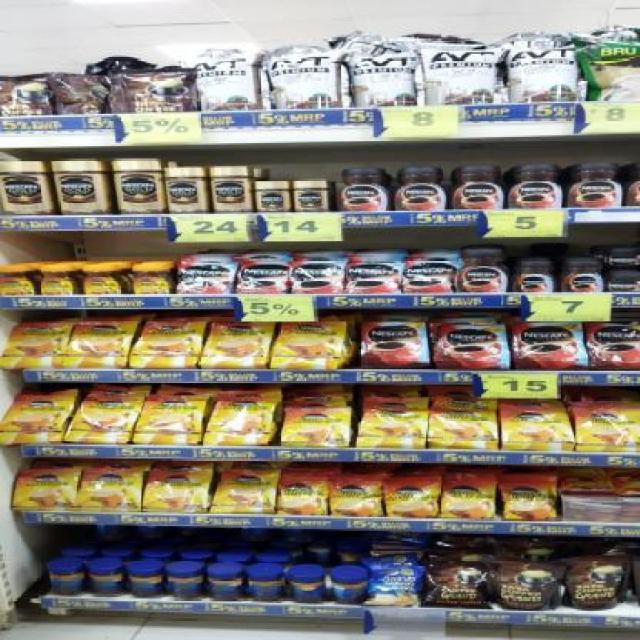Coffee: (434, 324, 508, 372), (62, 319, 130, 369), (515, 322, 587, 369), (69, 395, 137, 444), (132, 319, 200, 368), (271, 320, 339, 369), (362, 322, 430, 370), (201, 320, 269, 368), (3, 392, 65, 443), (137, 397, 201, 446), (202, 400, 268, 447), (3, 321, 69, 367), (282, 408, 350, 449), (503, 407, 569, 449), (212, 474, 278, 516), (115, 160, 166, 214), (578, 407, 640, 450), (428, 412, 496, 451), (0, 161, 51, 213), (143, 473, 209, 513), (77, 471, 139, 513), (11, 472, 75, 512), (58, 161, 107, 213), (361, 412, 428, 450), (591, 324, 639, 370), (570, 164, 618, 208), (398, 167, 446, 211), (511, 165, 559, 208), (460, 249, 506, 293), (340, 169, 386, 211), (386, 479, 438, 516), (443, 479, 495, 516), (456, 166, 500, 208), (211, 166, 250, 212), (281, 475, 328, 513), (332, 479, 380, 516), (504, 484, 556, 518), (405, 260, 453, 294), (179, 263, 231, 294), (169, 167, 203, 213), (295, 261, 343, 293), (349, 264, 398, 294), (240, 262, 286, 292), (565, 262, 603, 293), (518, 260, 554, 292), (130, 268, 168, 294), (39, 267, 73, 295), (82, 268, 118, 294), (297, 181, 326, 211), (256, 182, 287, 210), (2, 267, 33, 295), (606, 274, 640, 292), (609, 249, 640, 267)
